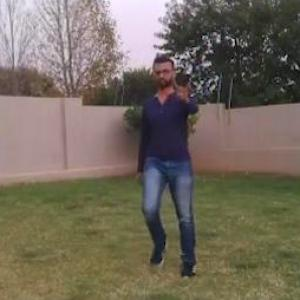takeoff-hand: (168, 68, 200, 108)
